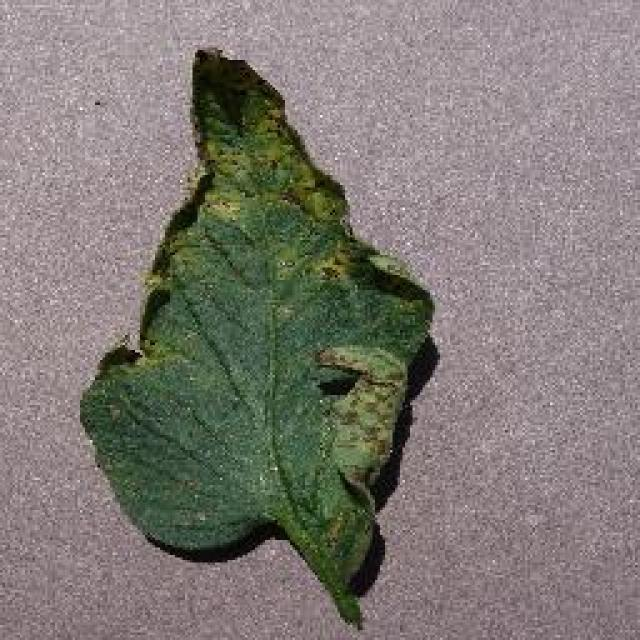Tomato target spot leaf: (80, 44, 435, 624)
